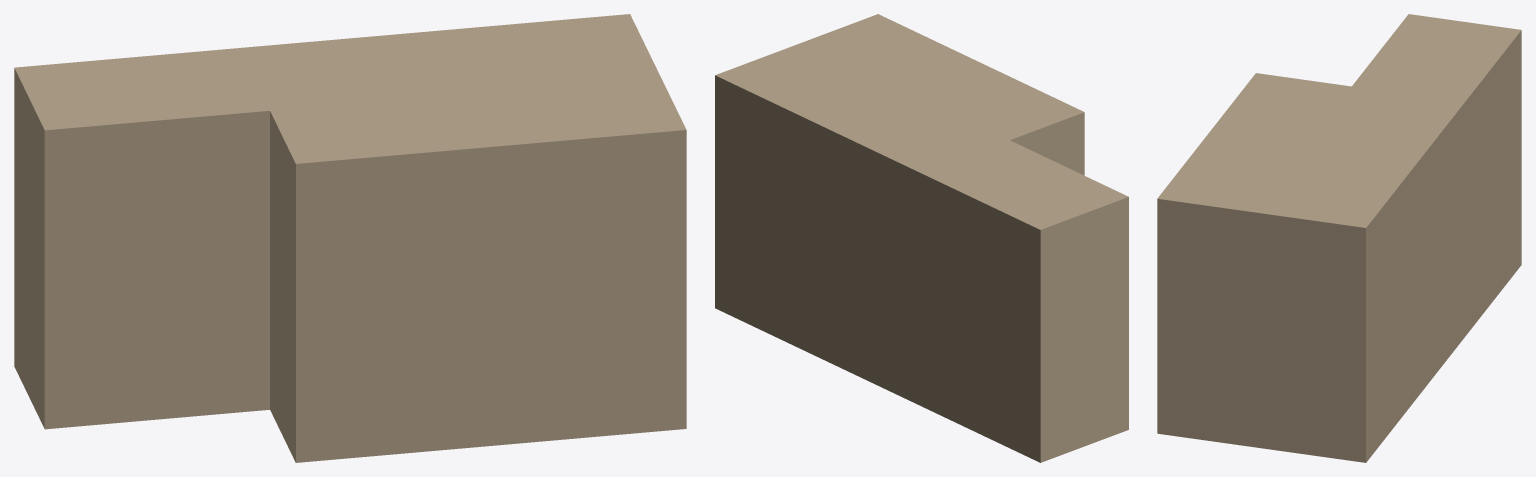
File: bld_101353735.dae
3 renders of one model, left to right at view 1: azimuth 30°, elevation 25°; view 2: azimuth 150°, elevation 25°; view 3: azimuth 270°, elevation 25°, orthographic. The views are drawn at different scales.
Parts seen in each view (by area): view 1: bld_101353735; view 2: bld_101353735; view 3: bld_101353735.
Boxes of the visible parts, box(x1,y1,x2,y2) form: bld_101353735: box(14, 14, 686, 462); bld_101353735: box(715, 14, 1128, 462); bld_101353735: box(1157, 14, 1521, 462).
Bounding box in the file's own units: 15.63 × 11.25 × 8.
